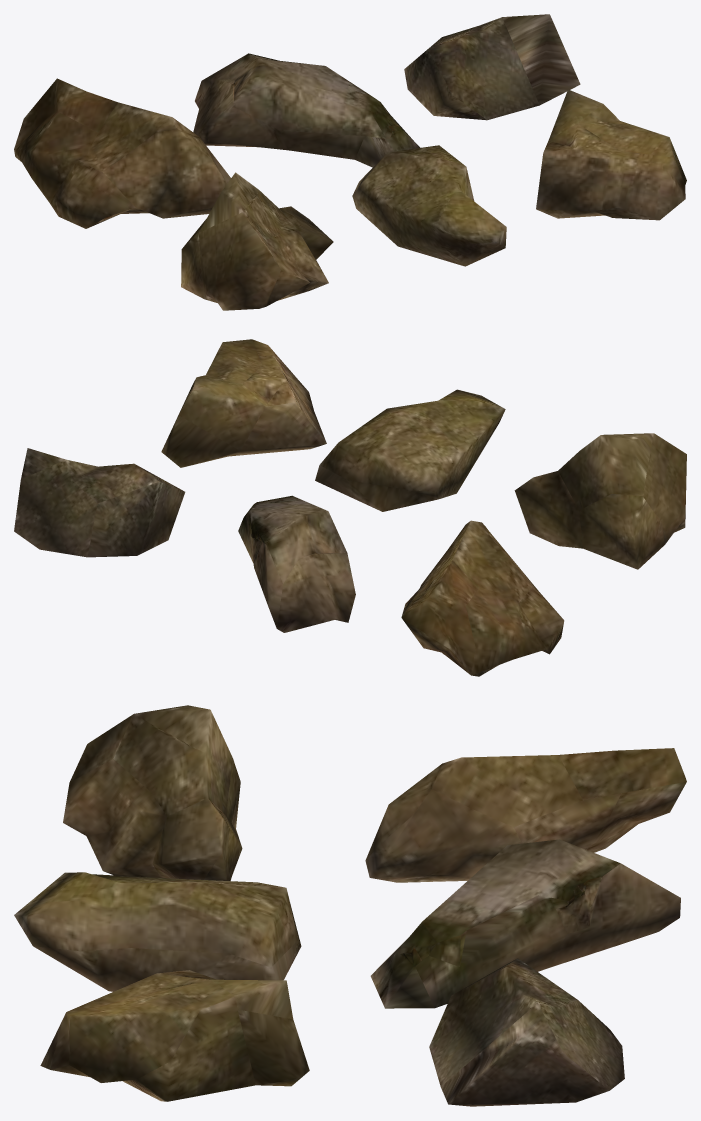
Rendered from rocks.glb.
3 renders of one model, top to bottom at view 1: azimuth 30°, elevation 25°; view 2: azimuth 150°, elevation 25°; view 3: azimuth 270°, elevation 25°, orthographic. The views are drawn at different scales.
Parts seen in each view (by area): view 1: m; view 2: m; view 3: m.
Boxes of the visible parts, x1=… form: m: x1=14, y1=14, x2=686, y2=310; m: x1=14, y1=339, x2=686, y2=676; m: x1=14, y1=705, x2=686, y2=1106.
Bounding box in the file's own units: 7.91 × 1.76 × 6.87.
1 material, 1 textured.
